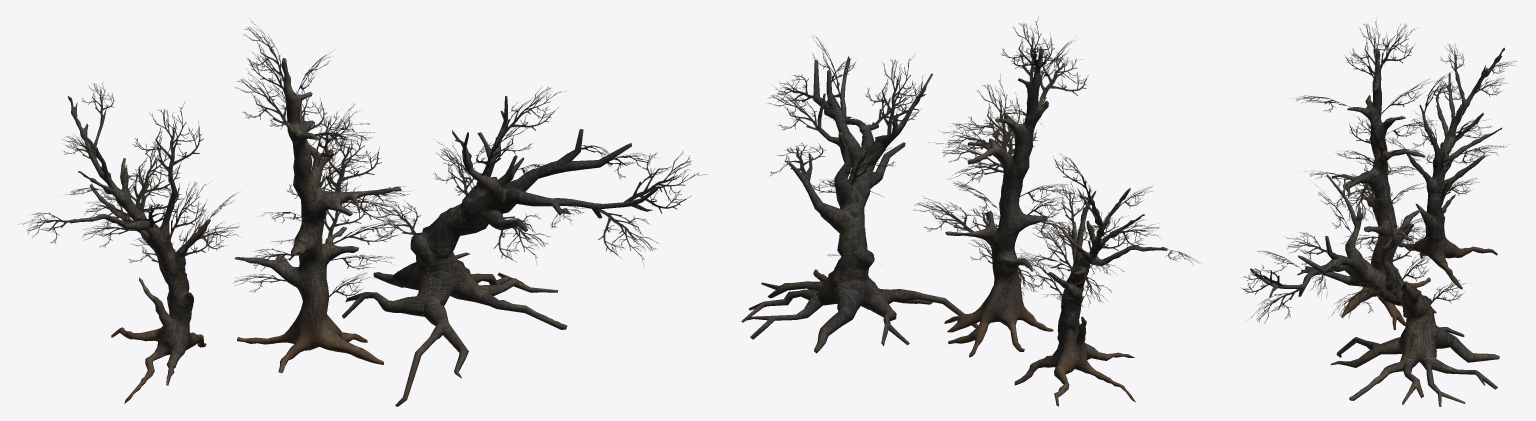
Rendered from trees_1.glb.
3 renders of one model, left to right at view 1: azimuth 30°, elevation 25°; view 2: azimuth 150°, elevation 25°; view 3: azimuth 270°, elevation 25°, orthographic. The views are drawn at different scales.
Parts seen in each view (by area): view 1: tree2, tree1, tree3, branches, branches_3, branches_2; view 2: tree2, tree1, branches, tree3, branches_2, branches_3; view 3: tree2, tree3, tree1, branches, branches_2, branches_3.
Part boxes in pixels (x1,y1,x2,y2): tree2: (342, 96, 659, 406); tree1: (235, 58, 401, 372); tree3: (68, 96, 210, 403); branches: (233, 22, 415, 298); branches_3: (18, 83, 238, 263); branches_2: (373, 86, 707, 266); tree2: (741, 56, 978, 353); tree1: (944, 48, 1053, 357); branches: (912, 16, 1088, 298); tree3: (1014, 187, 1167, 406); branches_2: (767, 36, 925, 260); branches_3: (1012, 153, 1200, 306); tree2: (1250, 174, 1499, 406); tree3: (1398, 47, 1504, 289); tree1: (1332, 48, 1436, 329); branches: (1296, 19, 1436, 261); branches_2: (1240, 185, 1466, 322); branches_3: (1388, 44, 1516, 199).
Size of the model in its own units: 16.14 by 10.5 by 9.27.
Materials: 4 (4 with a texture image).
